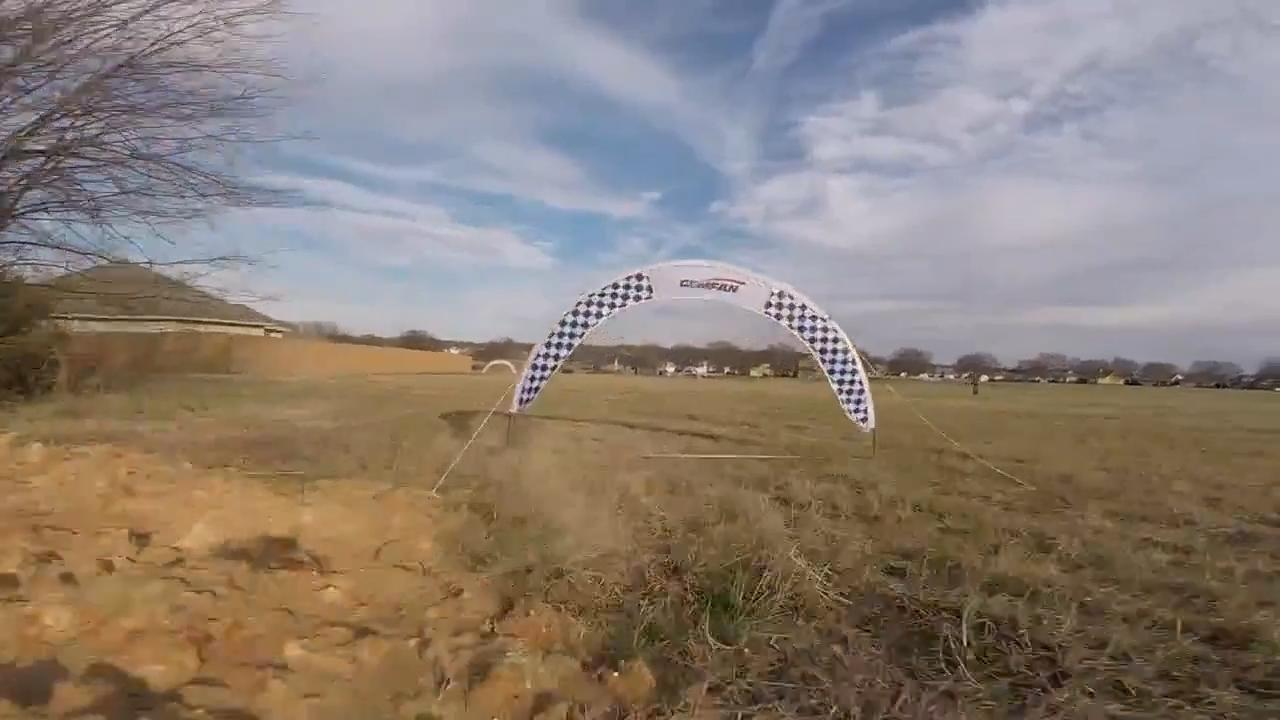gate: (504, 260, 878, 434)
